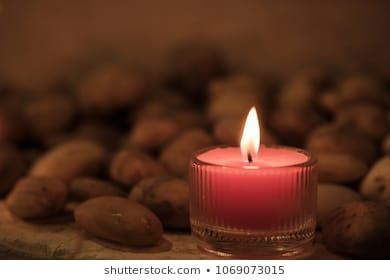fire: (238, 101, 263, 159)
